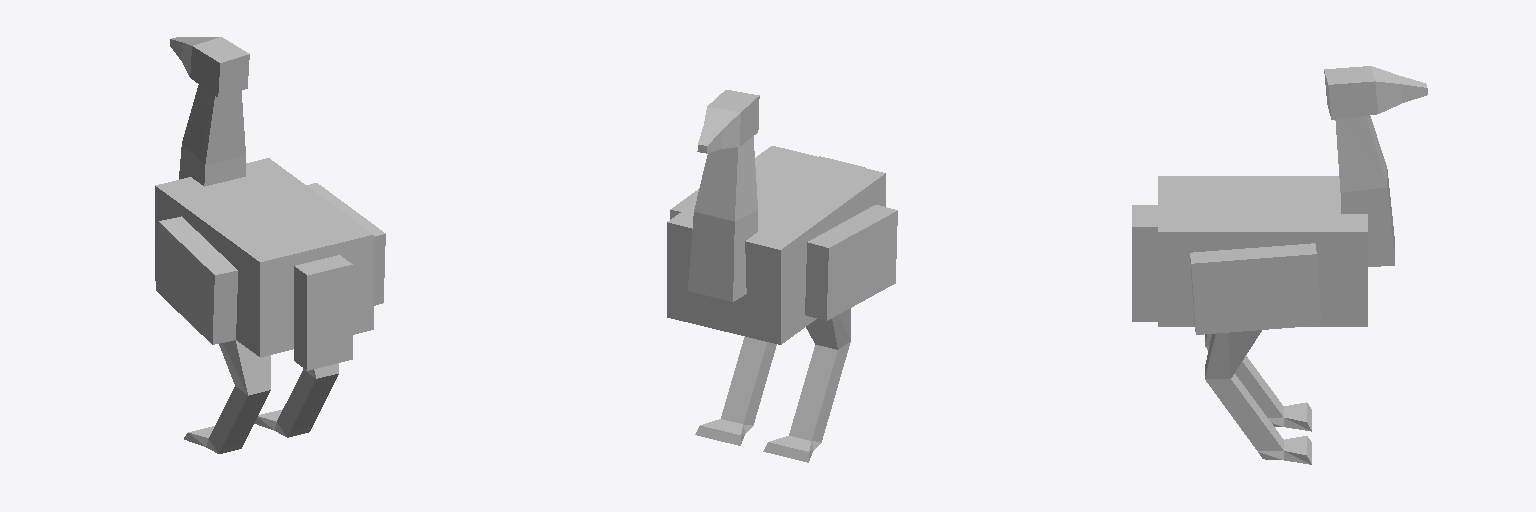
Rendered from Ostrich_000009.obj.
The picture shows the model from 3 angles: view 1: azimuth 30°, elevation 25°; view 2: azimuth 150°, elevation 25°; view 3: azimuth 270°, elevation 25°; orthographic projection.
Parts seen in each view (by area): view 1: Cube_Cube.001; view 2: Cube_Cube.001; view 3: Cube_Cube.001.
Boxes of the visible parts, box(x1,y1,x2,y2) form: Cube_Cube.001: box(155, 37, 385, 453); Cube_Cube.001: box(667, 90, 897, 462); Cube_Cube.001: box(1132, 66, 1427, 464).
Size of the model in its own units: 0.7533 by 1.52 by 1.13.